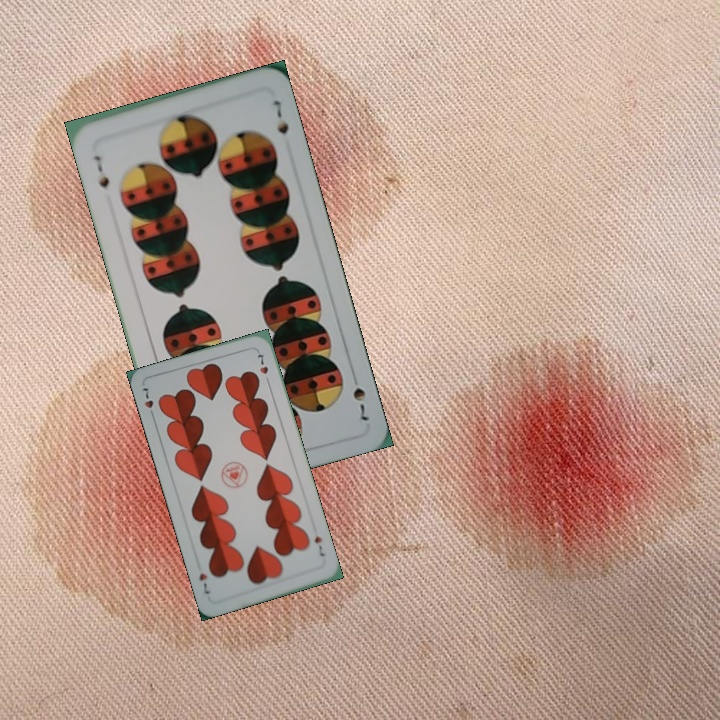H7: (138, 384, 158, 422), (310, 532, 327, 559)
S7: (88, 151, 112, 191), (349, 383, 372, 424)
